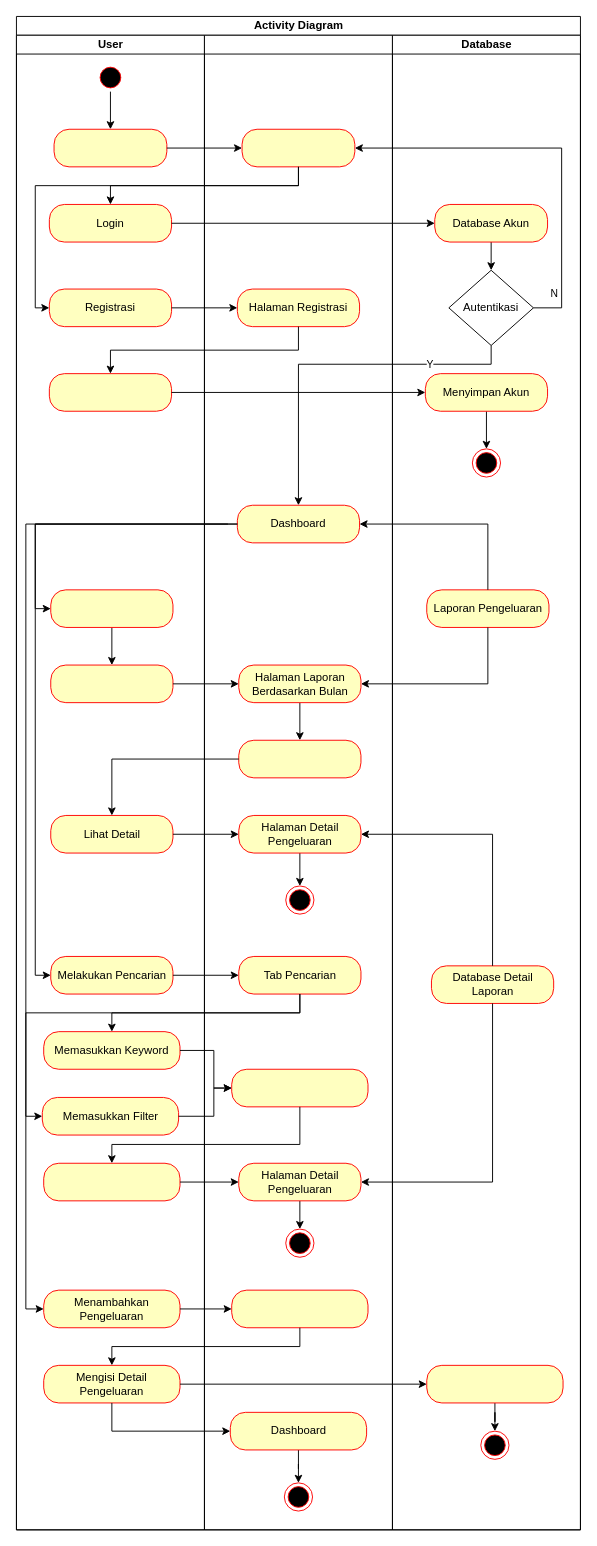
Some shapes in this 597 by 1546 pixel diagram are drawn without their labels. Here are the shapes that lost their labels. From the top down, the box of each, then its label:
(53, 128, 167, 167): Membuka Aplikasi
(241, 128, 355, 167): Halaman Login
(48, 373, 172, 411): Mengisi Data Registrasi
(50, 589, 173, 627): Melihat Laporan
(50, 664, 173, 703): Cek Laporan Berdasarkan Bulan
(238, 739, 361, 778): Tab Laporan Berdasarkan Hari
(204, 34, 392, 1530): Aplikasi
(231, 1068, 368, 1107): Halaman Hasil Pencarian
(43, 1162, 180, 1201): Melihat Detail Pengeluaran
(231, 1289, 368, 1328): Halaman Pencatatan
(426, 1364, 563, 1403): Menyimpan Detail Pengeluaran
